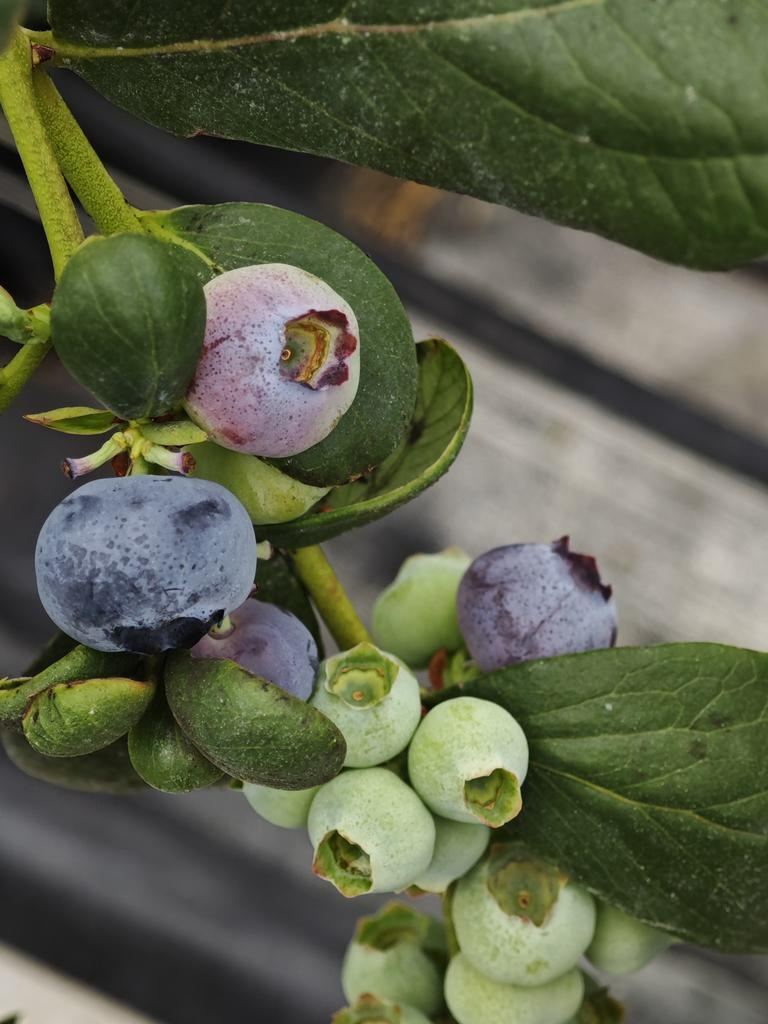RipeBlueBerry: (33, 476, 261, 664)
Semi-RipeBlueBerry: (177, 250, 379, 451)
UnripeBlueBerry: (407, 690, 529, 821)
